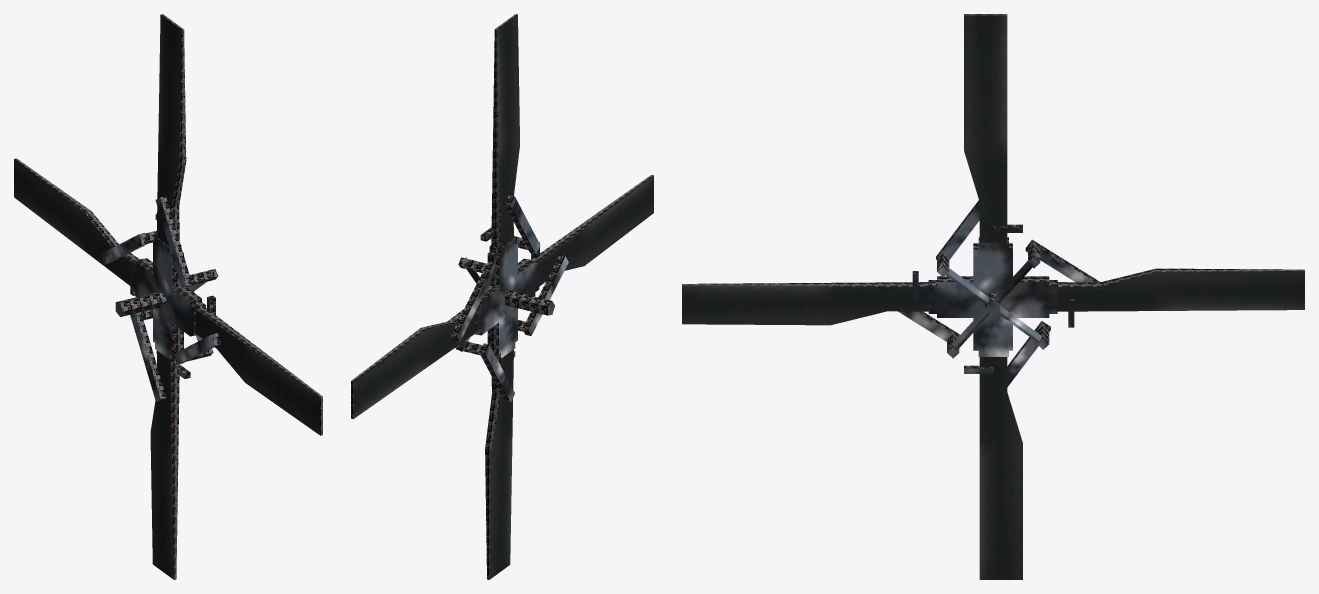
The model's file is heliceb.glb.
3 renders of one model, left to right at view 1: azimuth 30°, elevation 25°; view 2: azimuth 150°, elevation 25°; view 3: azimuth 270°, elevation 25°, orthographic. The views are drawn at different scales.
Parts seen in each view (by area): view 1: root; view 2: root; view 3: root.
Boxes of the visible parts, bbox=[...] form: root: bbox=[14, 14, 322, 579]; root: bbox=[351, 14, 653, 579]; root: bbox=[682, 14, 1304, 579].
Size of the model in its own units: 0.1871 by 1.38 by 1.38.
1 material, 1 textured.
